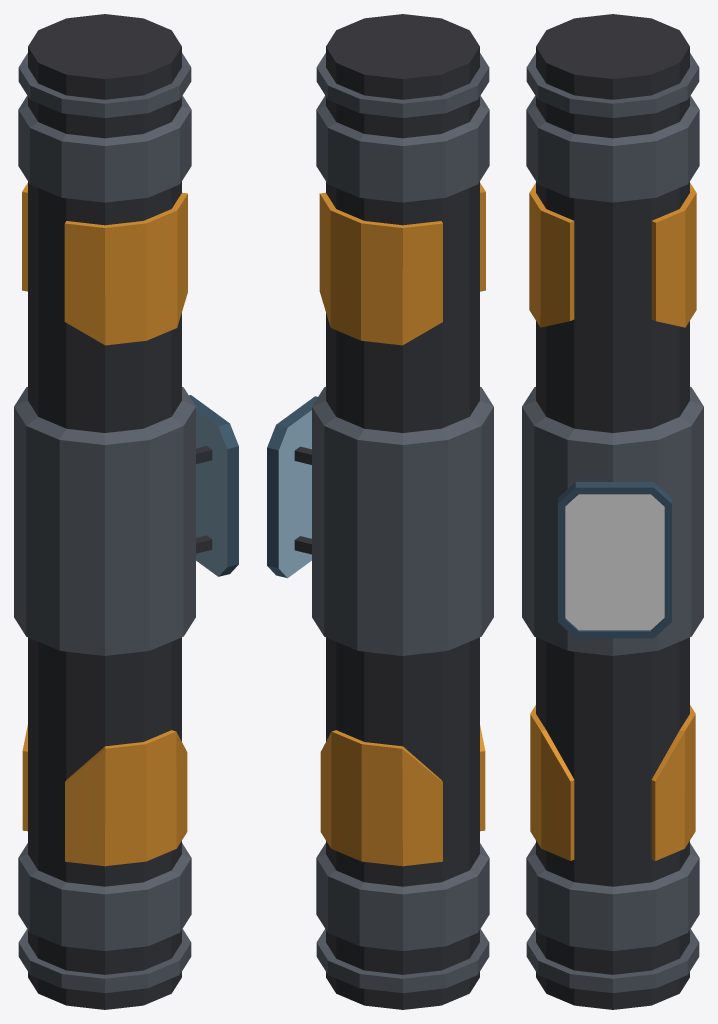
Rendered from SM_pipe_with_electronic_table.glb.
3 renders of one model, left to right at view 1: azimuth 30°, elevation 25°; view 2: azimuth 150°, elevation 25°; view 3: azimuth 270°, elevation 25°, orthographic.
Visible parts, largest first — view 1: SM_pipe_with_electronic_table; view 2: SM_pipe_with_electronic_table; view 3: SM_pipe_with_electronic_table.
Part boxes in pixels (x1,y1,x2,y2): SM_pipe_with_electronic_table: [14, 14, 238, 1009]; SM_pipe_with_electronic_table: [267, 14, 493, 1009]; SM_pipe_with_electronic_table: [522, 14, 703, 1009].
Bounding box in the file's own units: 0.4164 × 2 × 0.3542.
2 materials, 1 textured.
